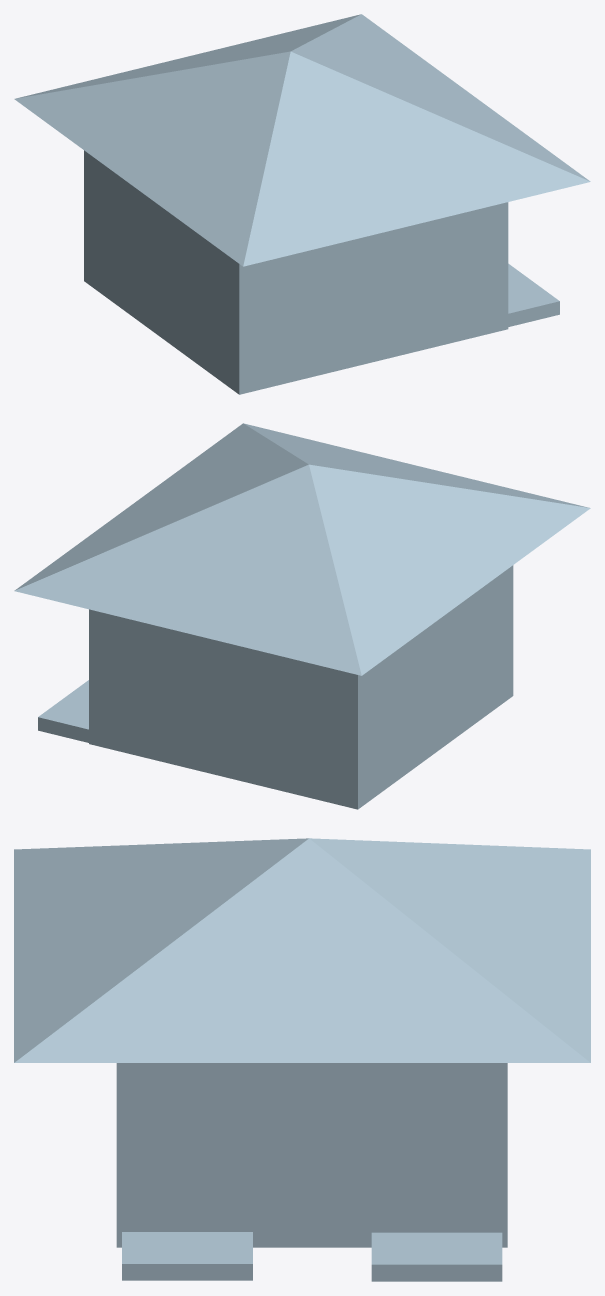
The model's file is Housing4Nav.glb.
3 views of the same model, one above another, from view 1: azimuth 30°, elevation 25°; view 2: azimuth 150°, elevation 25°; view 3: azimuth 270°, elevation 25° (orthographic). The views are drawn at different scales.
Parts seen in each view (by area): view 1: Cube.001, Cube; view 2: Cube.001, Cube; view 3: Cube.001, Cube.
Boxes of the visible parts, box(x1,y1,x2,y2) form: Cube.001: box(14, 14, 590, 326); Cube: box(84, 150, 508, 394); Cube.001: box(14, 423, 590, 742); Cube: box(89, 565, 513, 809); Cube.001: box(14, 838, 590, 1281); Cube: box(116, 1063, 507, 1247).
Bounding box in the file's own units: 5.35 × 3.65 × 5.91.
